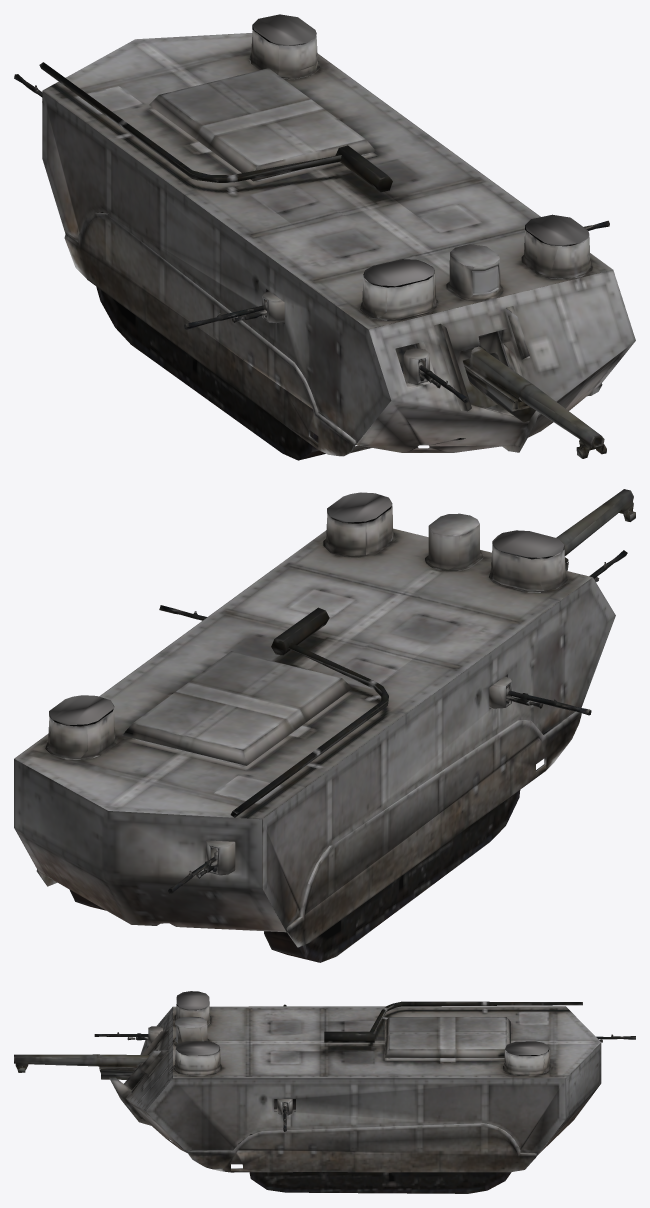
The model's file is chamond.dae.
3 views of the same model, one above another, from view 1: azimuth 30°, elevation 25°; view 2: azimuth 150°, elevation 25°; view 3: azimuth 270°, elevation 25° (orthographic). The views are drawn at different scales.
Visible parts, largest first — view 1: base, gun; view 2: base, gun; view 3: base, gun.
Boxes of the visible parts, <box> form: base: <box>14,14,635,460</box>; gun: <box>463,346,606,458</box>; base: <box>14,492,627,962</box>; gun: <box>556,489,635,570</box>; base: <box>94,991,635,1193</box>; gun: <box>14,1054,149,1079</box>.
Bounding box in the file's own units: 4.7 × 9.93 × 2.44.
